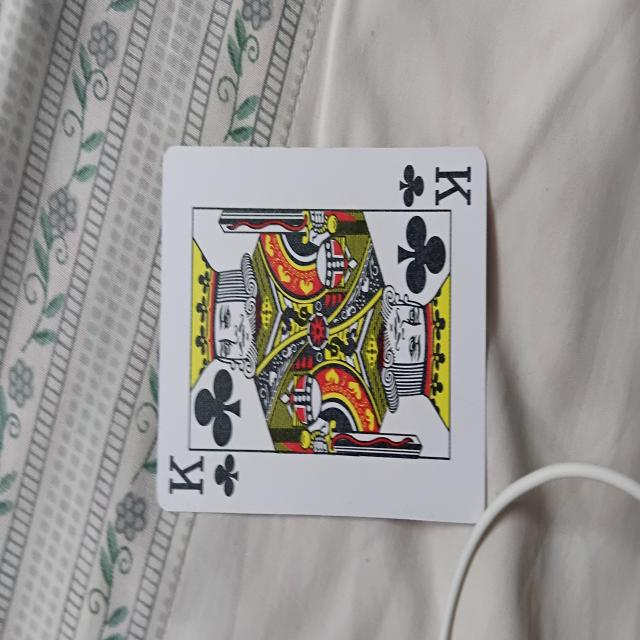KC: (156, 139, 489, 523)
